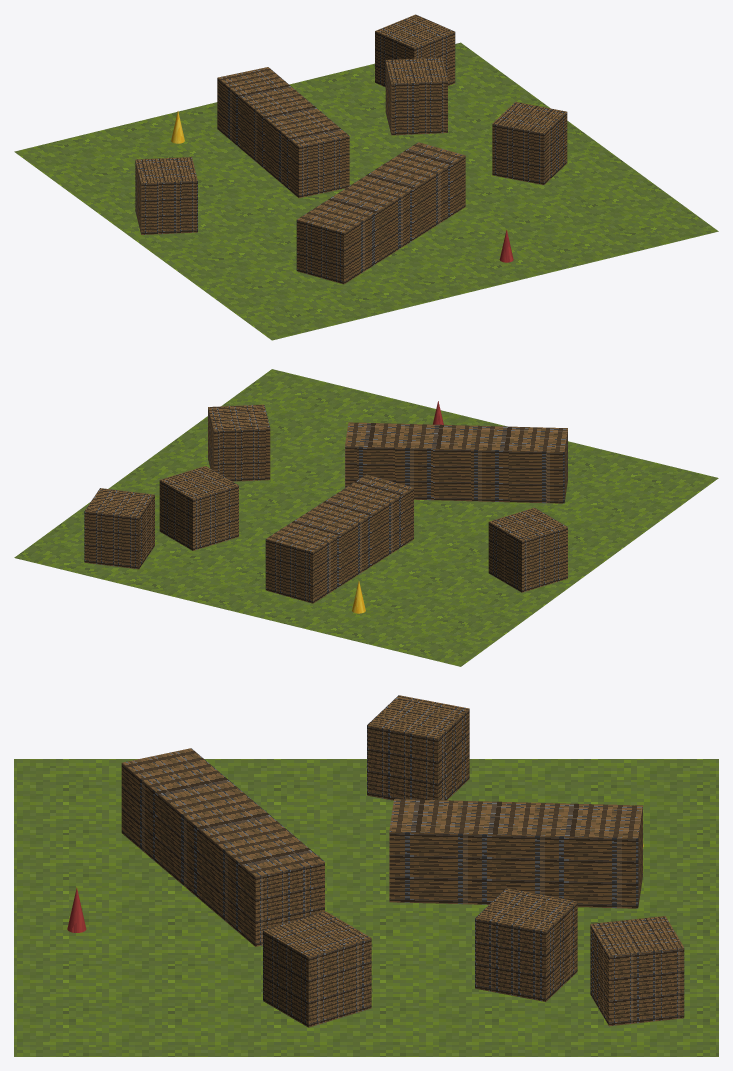
Rendered from dumb_map.glb.
The picture shows the model from 3 angles, top to bottom: view 1: azimuth 30°, elevation 25°; view 2: azimuth 150°, elevation 25°; view 3: azimuth 270°, elevation 25°; orthographic projection. The views are drawn at different scales.
Parts seen in each view (by area): view 1: Plane, Cube.001, Cube.002, Cube.003, Cube, Cube.005, Cube.004; view 2: Plane, Cube.001, Cube.002, Cube, Cube.005, Cube.004, Cube.003; view 3: Plane, Cube.002, Cube.001, Cube.003, Cube, Cube.005, Cube.004.
Part boxes in pixels (x1,y1,x2,y2): Plane: (14, 42, 718, 340); Cube.001: (296, 142, 465, 284); Cube.002: (217, 67, 349, 197); Cube.003: (492, 102, 567, 184); Cube: (385, 57, 447, 135); Cube.005: (135, 157, 197, 234); Cube.004: (375, 14, 455, 87); Plane: (14, 369, 718, 666); Cube.001: (345, 422, 567, 503); Cube.002: (265, 474, 413, 603); Cube: (159, 466, 238, 550); Cube.005: (488, 507, 567, 592); Cube.004: (84, 488, 154, 569); Cube.003: (208, 404, 270, 481); Plane: (14, 759, 718, 1056); Cube.002: (389, 799, 642, 908); Cube.001: (121, 748, 324, 946); Cube.003: (263, 911, 371, 1027); Cube: (475, 888, 577, 1001); Cube.005: (367, 695, 469, 800); Cube.004: (590, 916, 684, 1026).
Size of the model in its own units: 18.13 by 2 by 18.13.
Materials: 4 (4 with a texture image).
